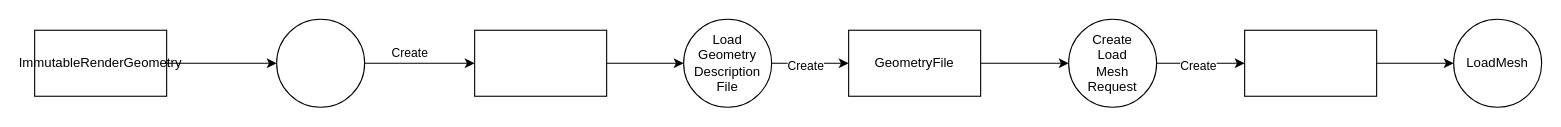
The diagram is 1561 pixels wide and 127 high, and some of its shapes have lost their labels. Each missing label, with the centre of its shape:
"CreateLoad Geometry DescriptionFile Request" belongs at point (320, 62).
"LoadGeometry Description FileRequest" belongs at point (540, 62).
"LoadMeshRequest" belongs at point (1310, 62).
